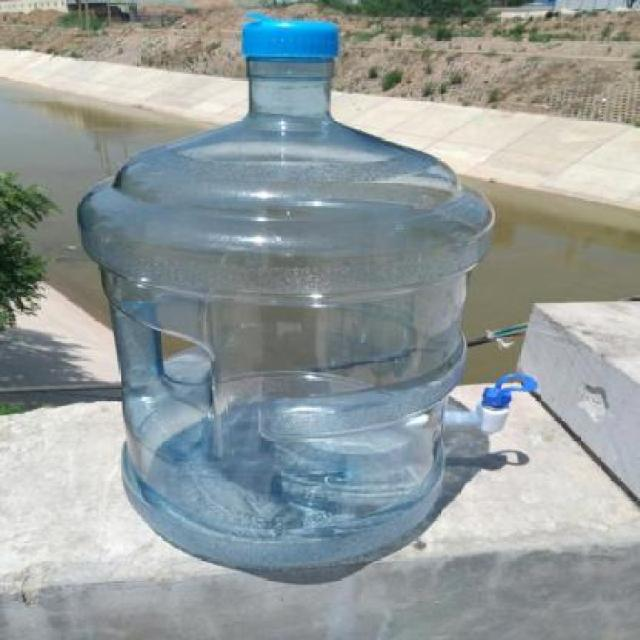coolerbottle: (70, 18, 508, 576)
